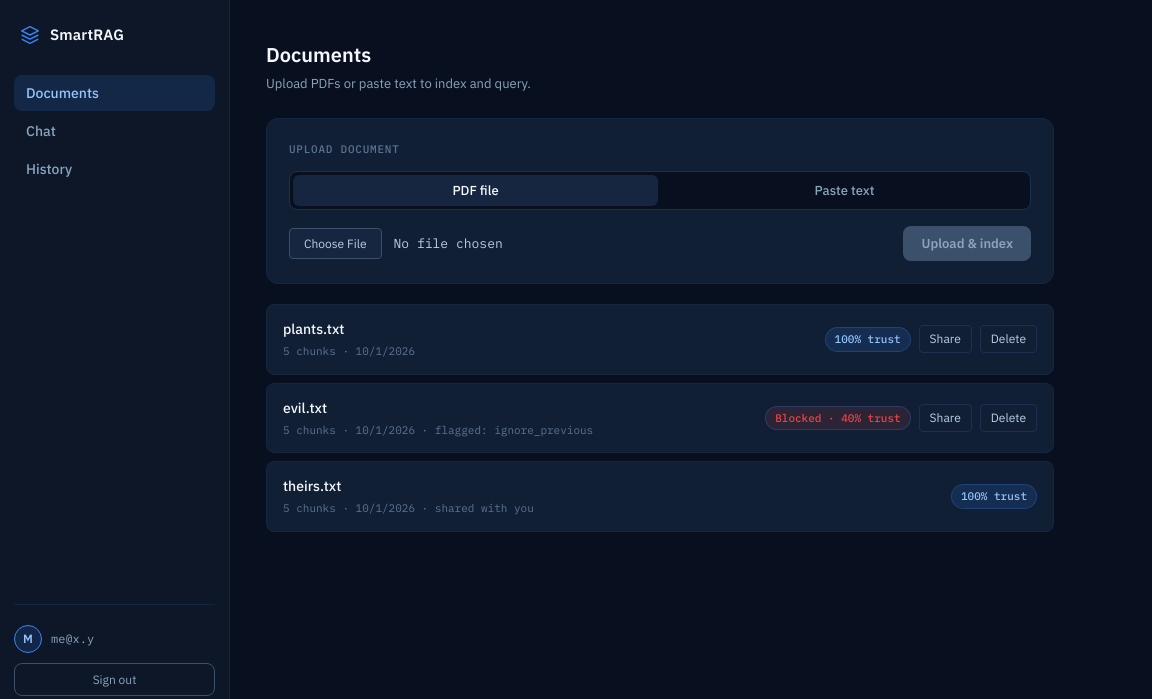
documents › shows how many chunks an edit re-embedded
This screenshot has width=1152, height=699.
Expected: the text "plants.txt" is shown, [283,320,344,338]
Click the button "Paste text". click: x=844, y=190
box: [662,175,1027,206]
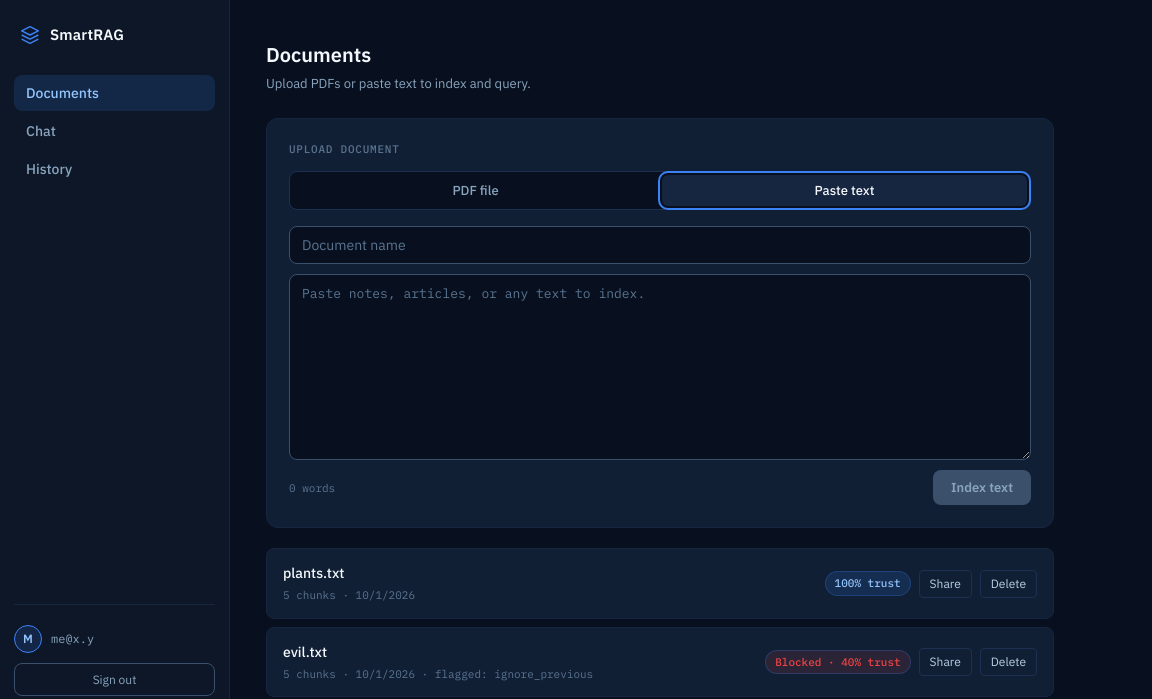
Type "edited" into the text box named "Document text". click: x=660, y=367
box: [289,274,1031,460]
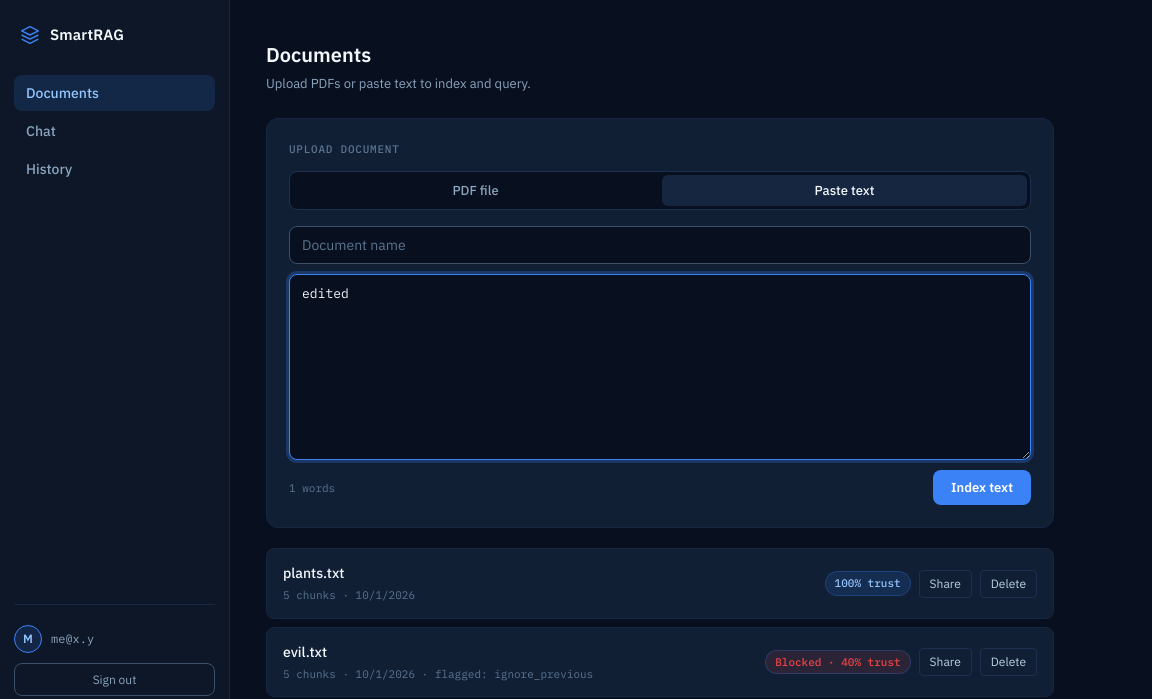
Click the button "Index text". click: x=982, y=488
box: [933,470,1031,505]
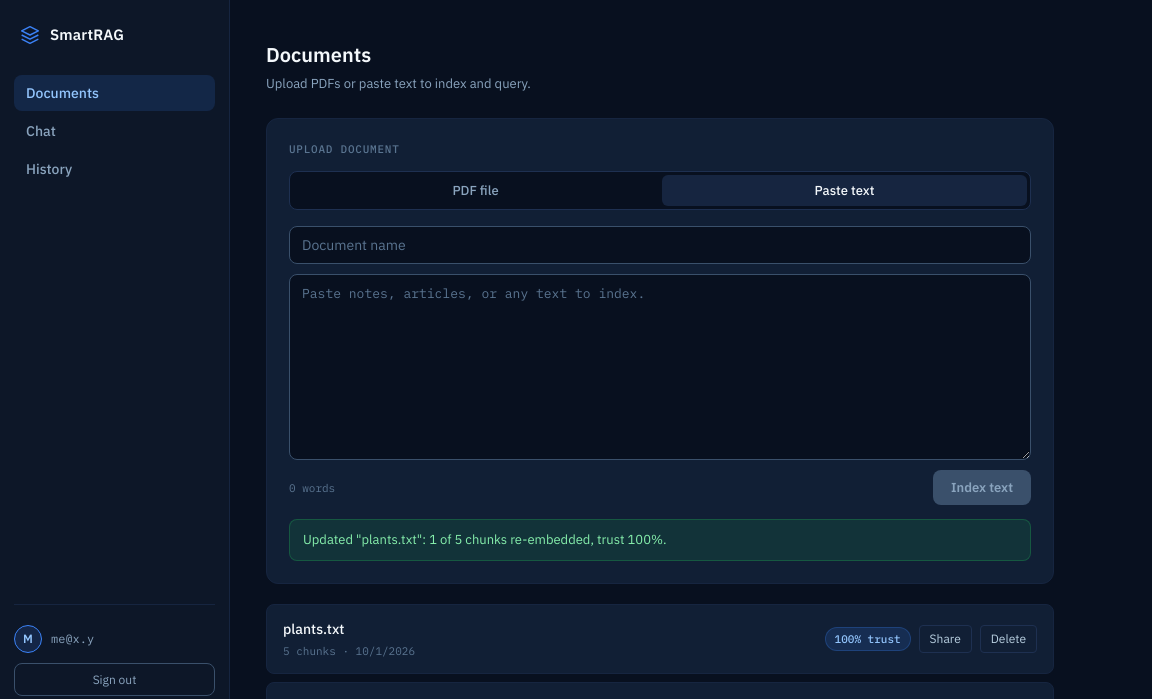
Result: the text "Updated \"plants.txt\": 1 of 5 chunks re-embedded, trust 100%." is shown at [289,519,1031,561]
